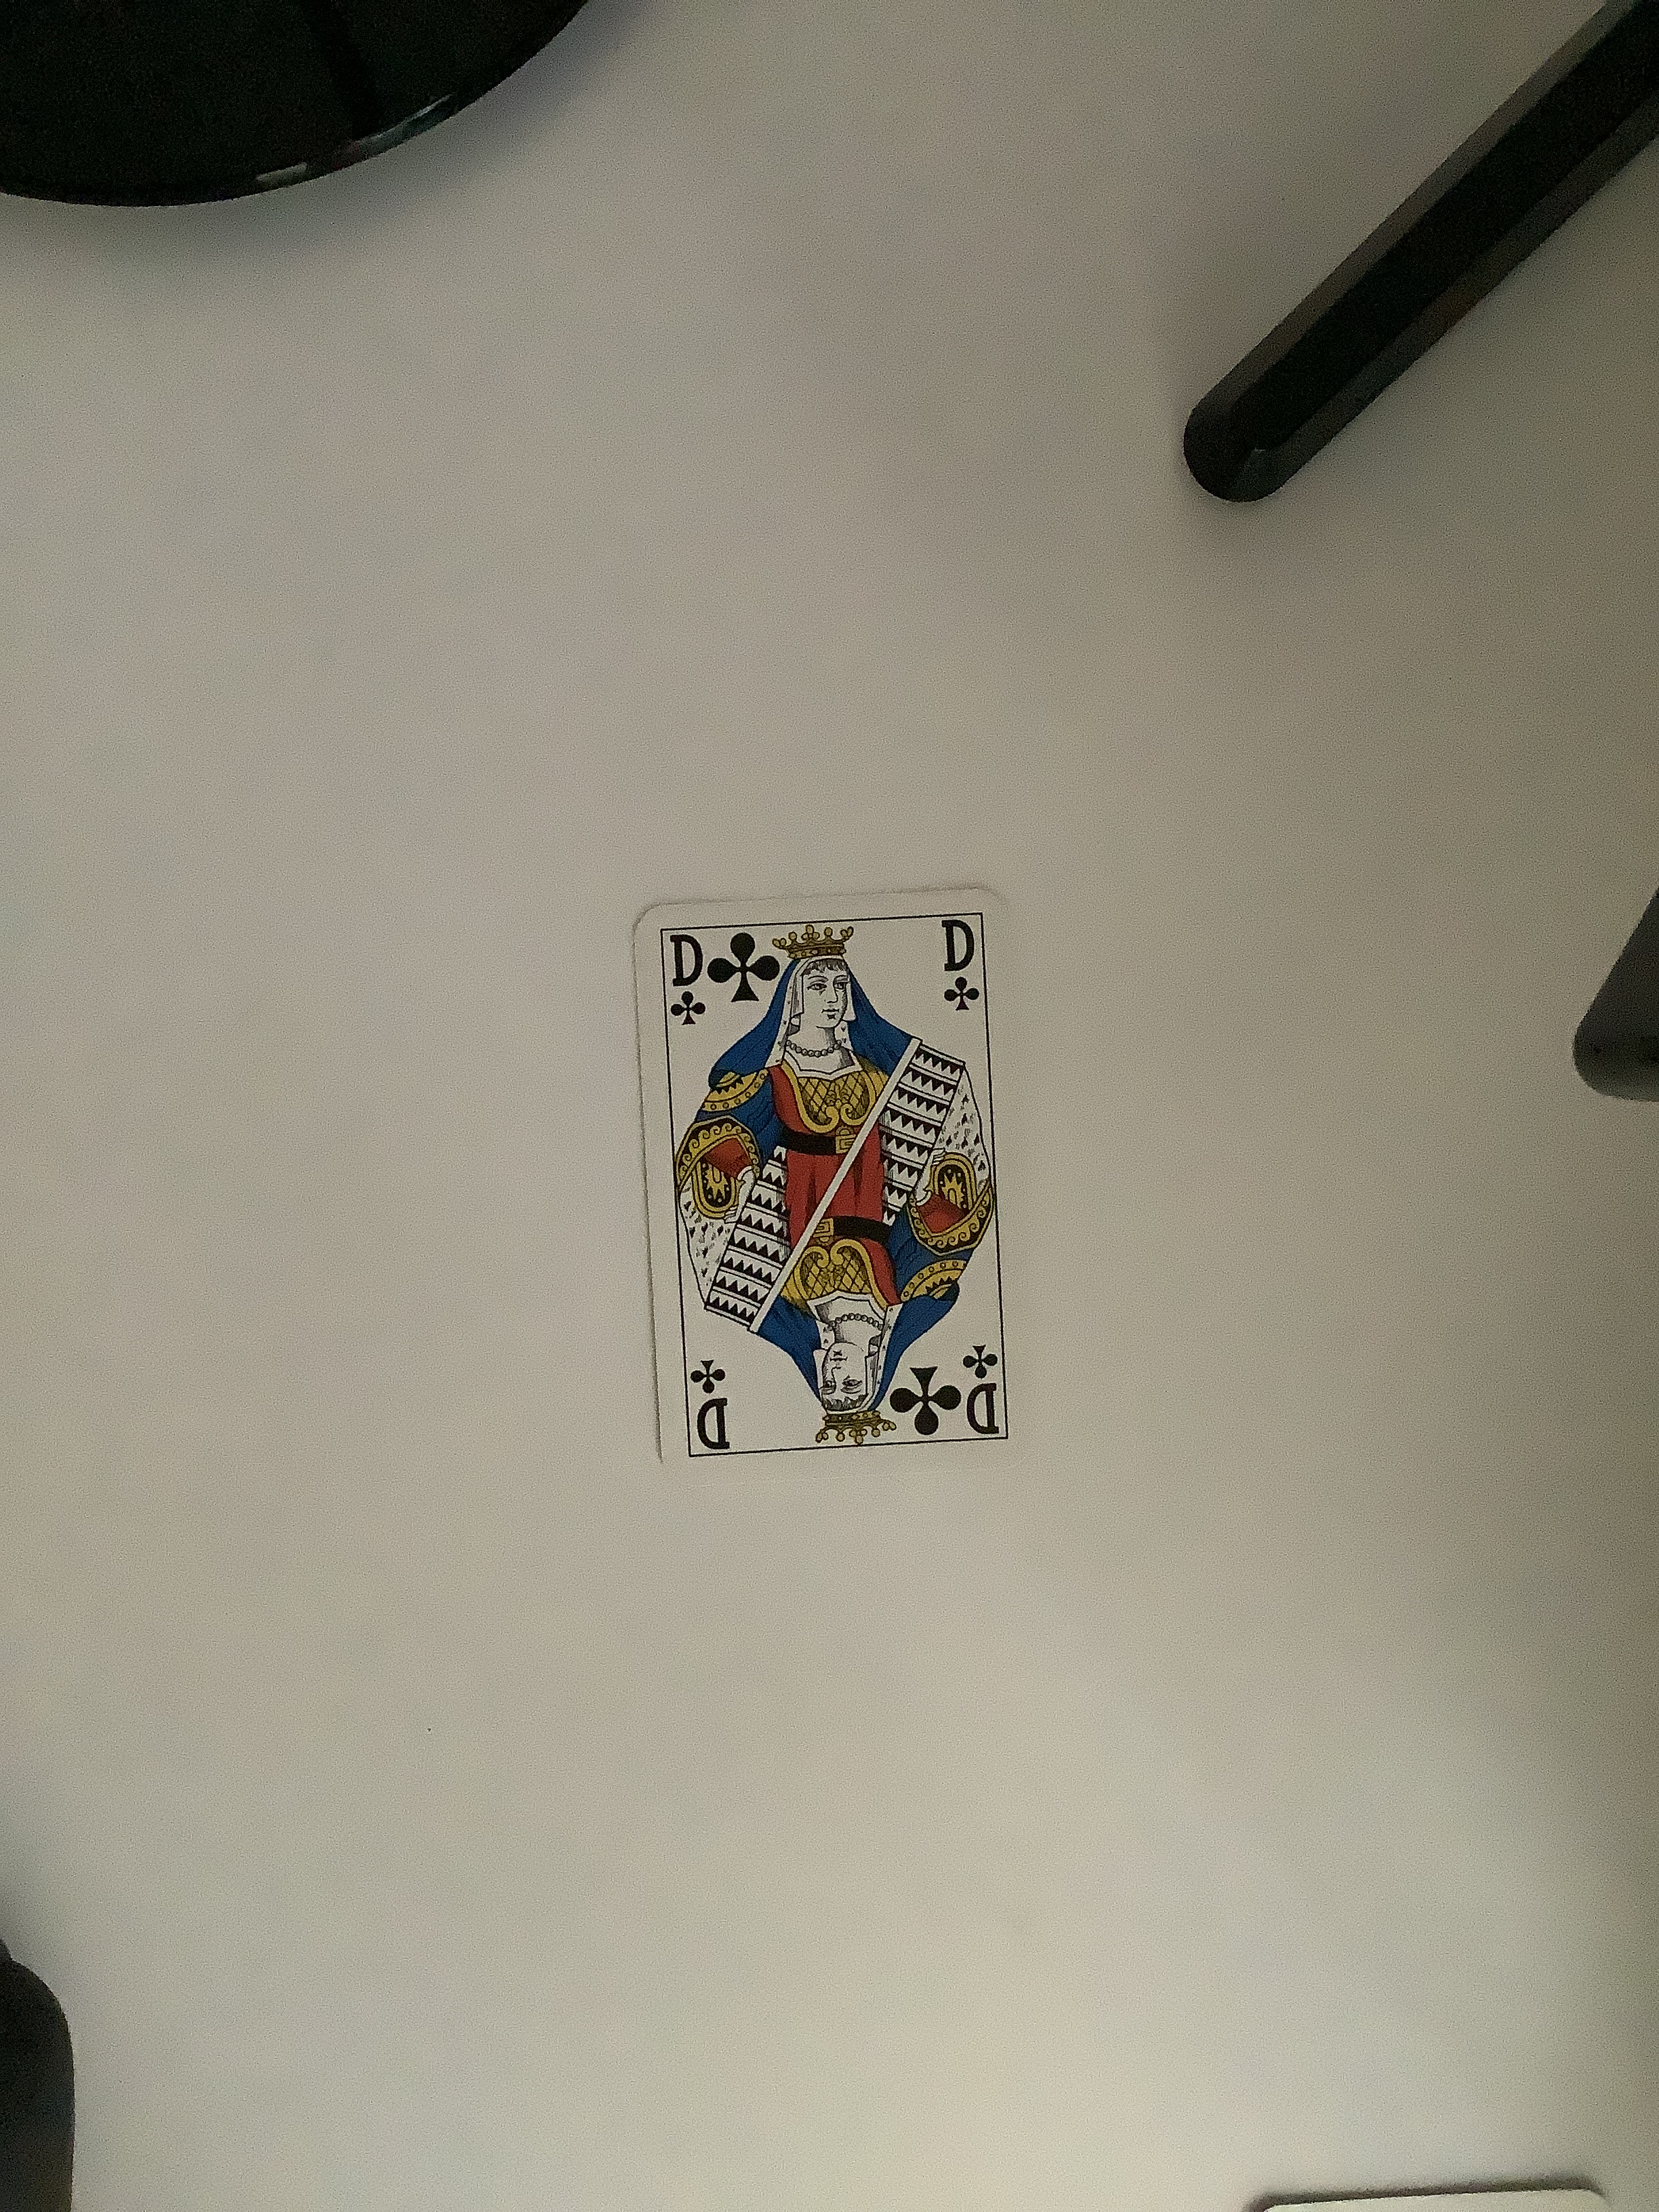♣ Q: (606, 878, 1032, 1501)
